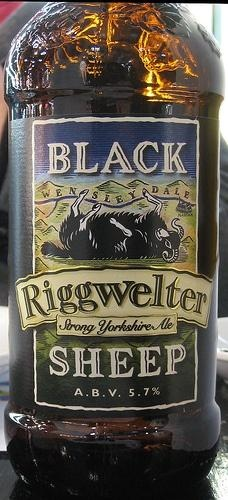bottle: (3, 1, 225, 496)
